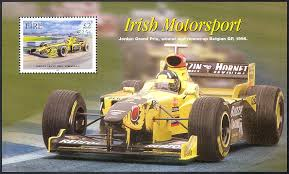FormulaOneCar: (39, 39, 289, 164)
